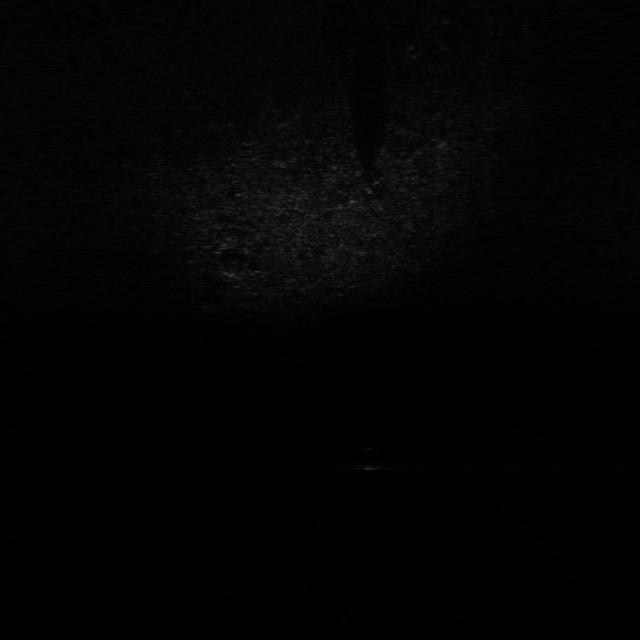ball: (352, 444, 392, 474)
